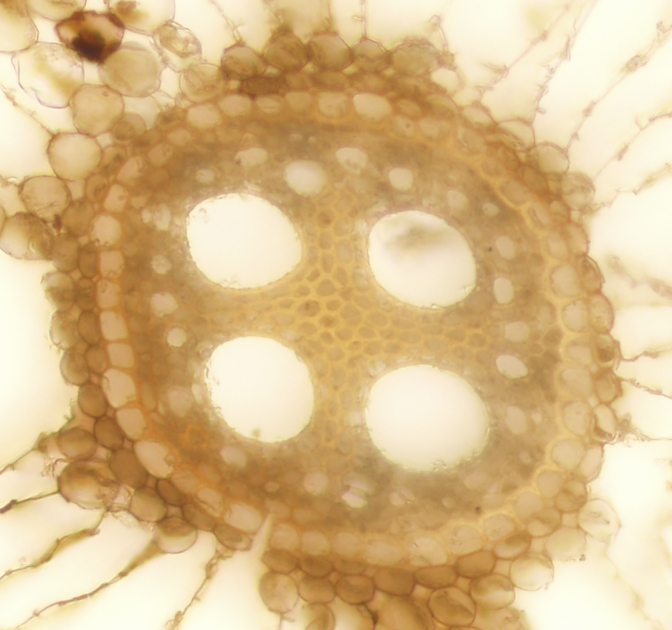lm: (365, 365, 492, 471), (184, 191, 303, 290), (205, 336, 313, 443), (367, 211, 477, 307)
